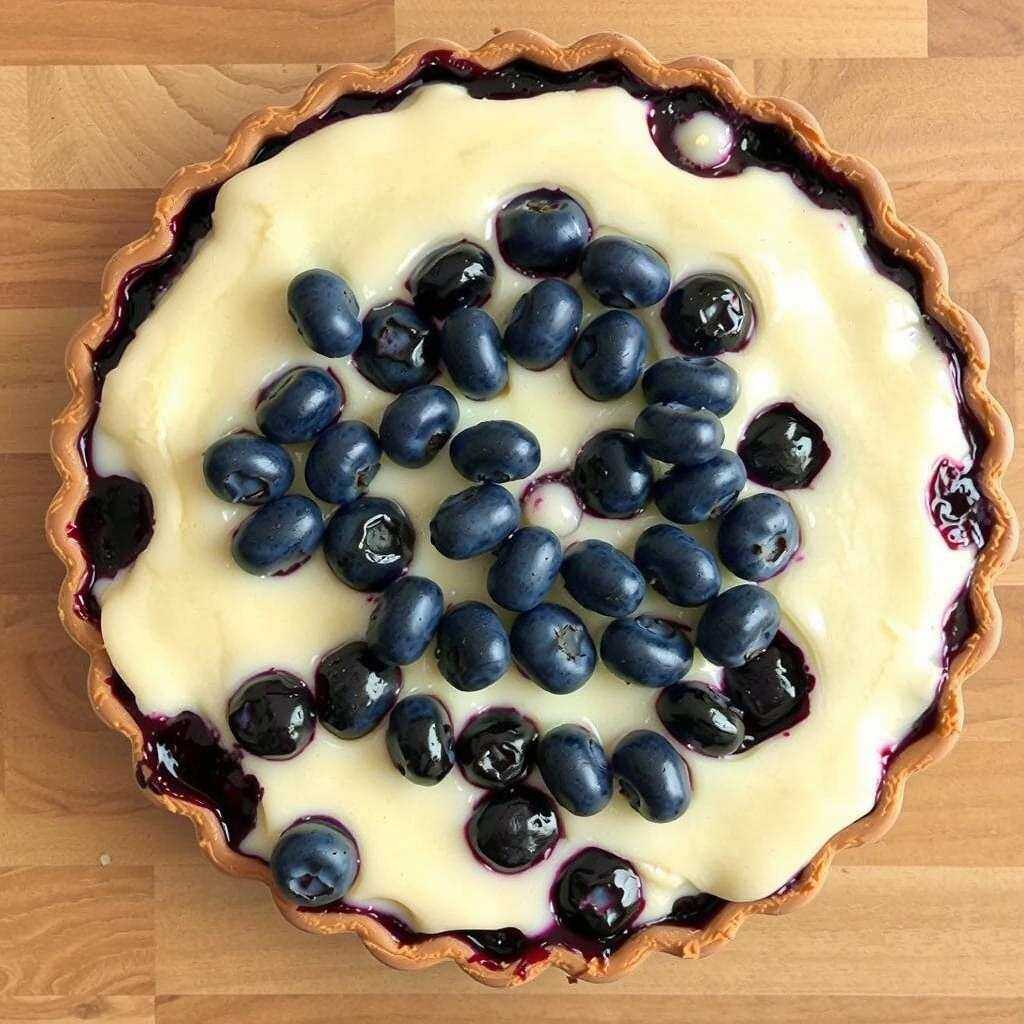pie: (40, 23, 1024, 994)
